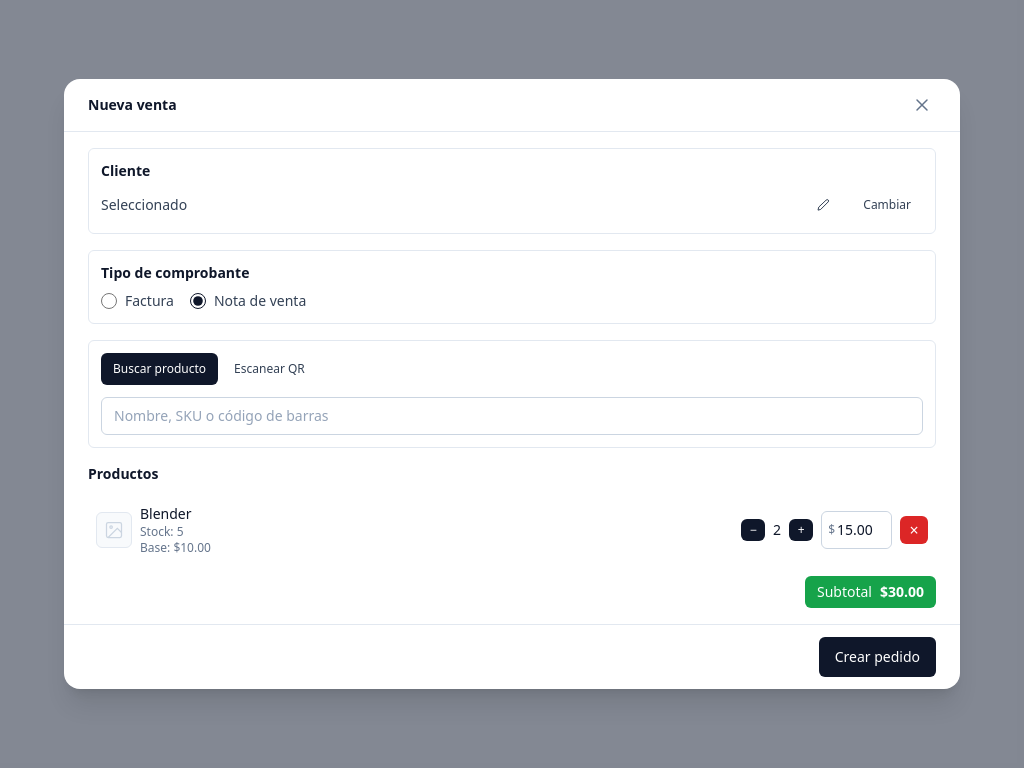
it: ProductCartModal › edits the price within range via PATCH, and rejects above maxPrice client-side without a request
Replace the text in the number field named "precio para sku-1" with "12" at (863, 530), box x1=835 y1=512 x2=891 y2=548
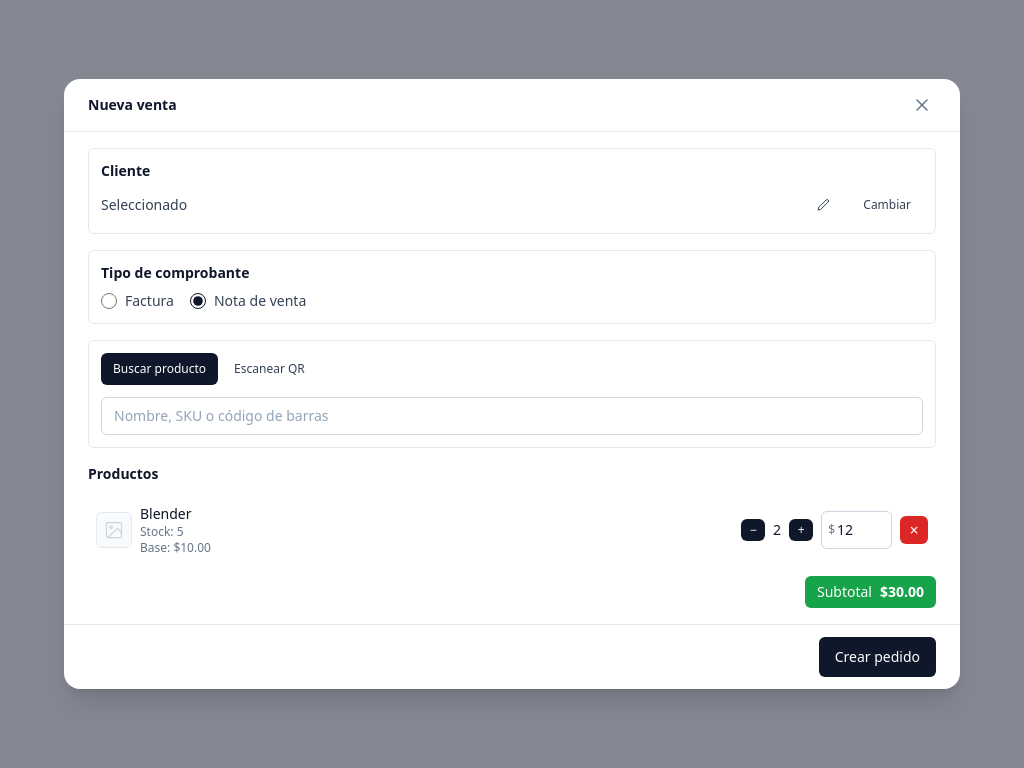
Replace the text in the number field named "precio para sku-1" with "99" at (863, 530), box x1=835 y1=512 x2=891 y2=548
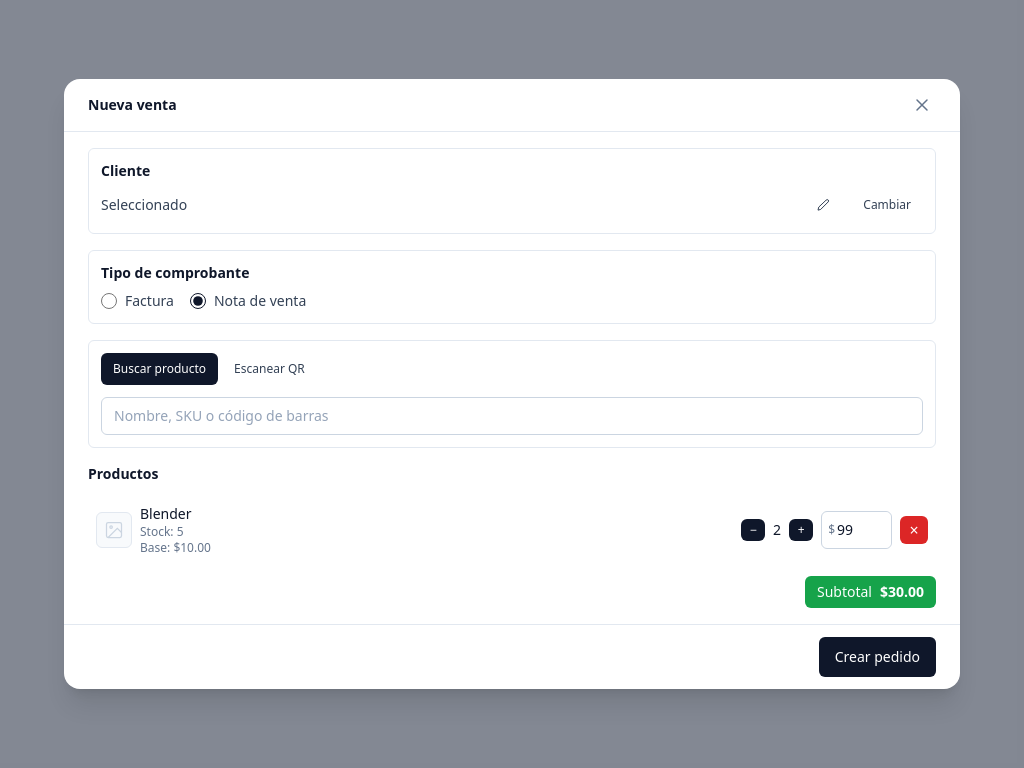
Leave the number field named "precio para sku-1", box x1=835 y1=512 x2=891 y2=548
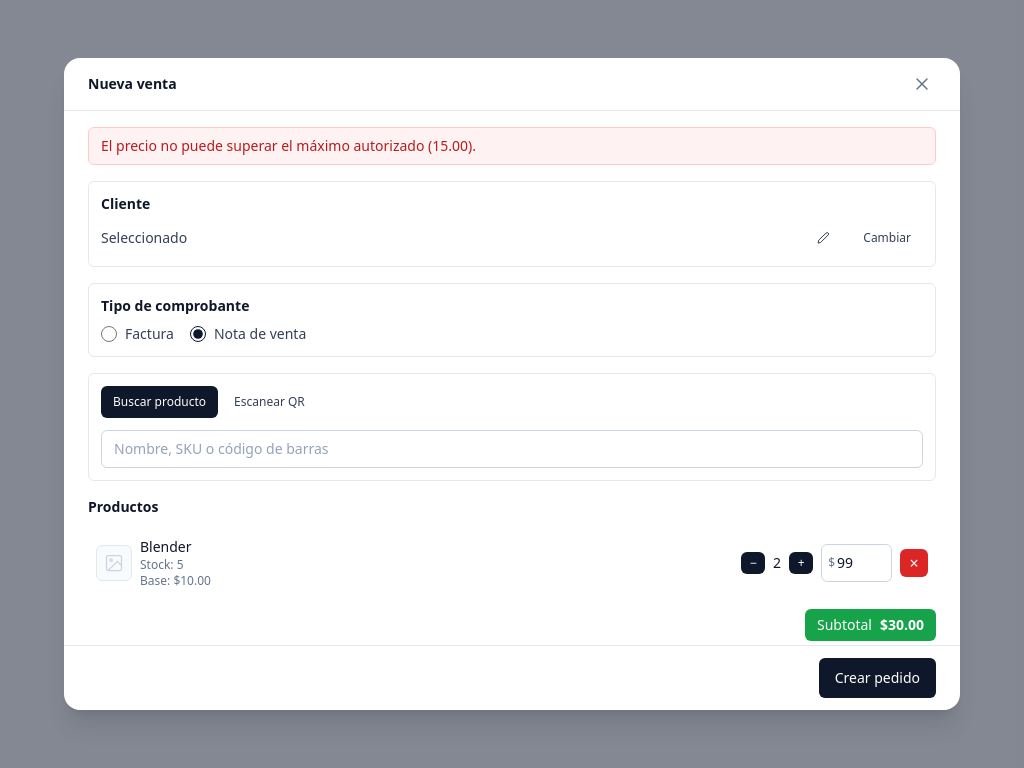
Check: the text "El precio no puede superar el máximo autorizado (15.00)." is shown, box x1=101 y1=136 x2=476 y2=155
